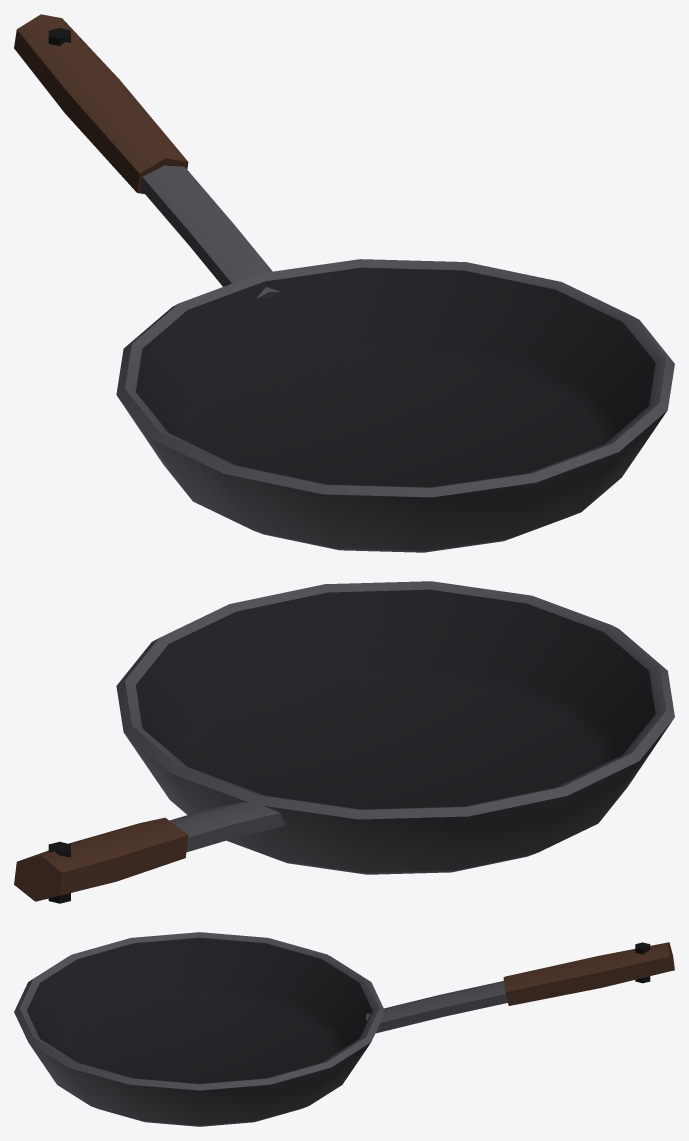
The model's file is pan.glb.
3 renders of one model, top to bottom at view 1: azimuth 30°, elevation 25°; view 2: azimuth 150°, elevation 25°; view 3: azimuth 270°, elevation 25°, orthographic. The views are drawn at different scales.
Visible parts, largest first — view 1: pan; view 2: pan; view 3: pan.
Part boxes in pixels (left/top/right/bottom): pan: left=14, top=14, right=674, bottom=552; pan: left=14, top=581, right=674, bottom=903; pan: left=14, top=932, right=674, bottom=1126.
Size of the model in its own units: 0.26 by 0.0957 by 0.4626.
Materials: 1 (1 with a texture image).
